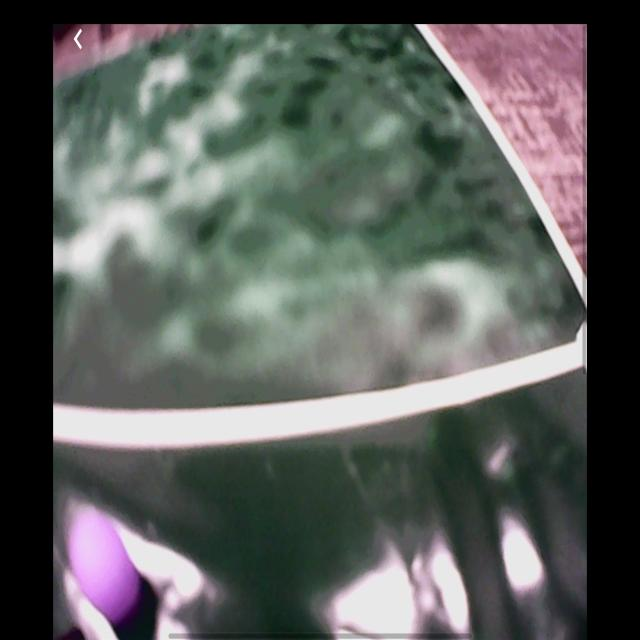ball: (69, 510, 141, 625)
